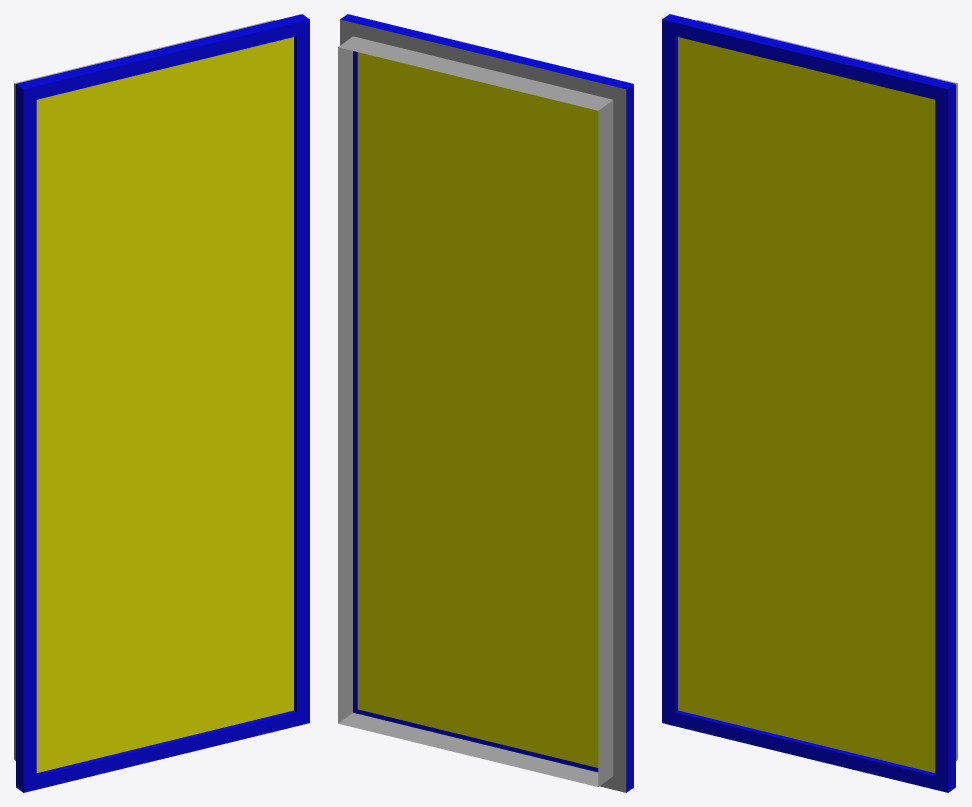
Rendered from Window3.fbx.
3 views of the same model, side by side, from view 1: azimuth 30°, elevation 25°; view 2: azimuth 150°, elevation 25°; view 3: azimuth 330°, elevation 25° (orthographic).
Parts seen in each view (by area): view 1: Window3; view 2: Window3; view 3: Window3.
Boxes of the visible parts, bbox=[...] form: Window3: bbox=[14, 14, 309, 792]; Window3: bbox=[338, 14, 633, 792]; Window3: bbox=[662, 14, 957, 792].
Bounding box in the file's own units: 110 × 258 × 15.
